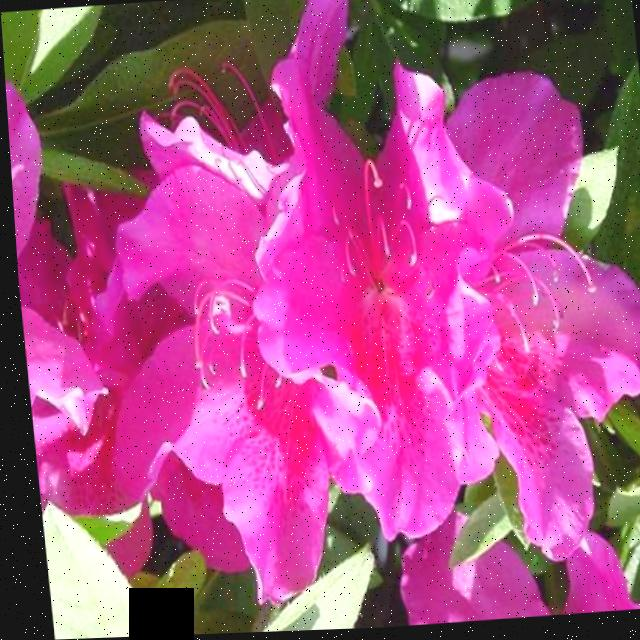azalea: (108, 38, 640, 592)
